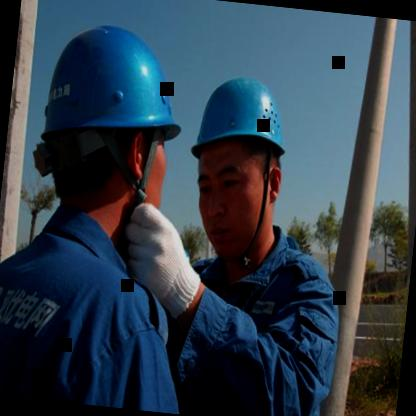helmet: (16, 5, 188, 244), (166, 56, 300, 277)
